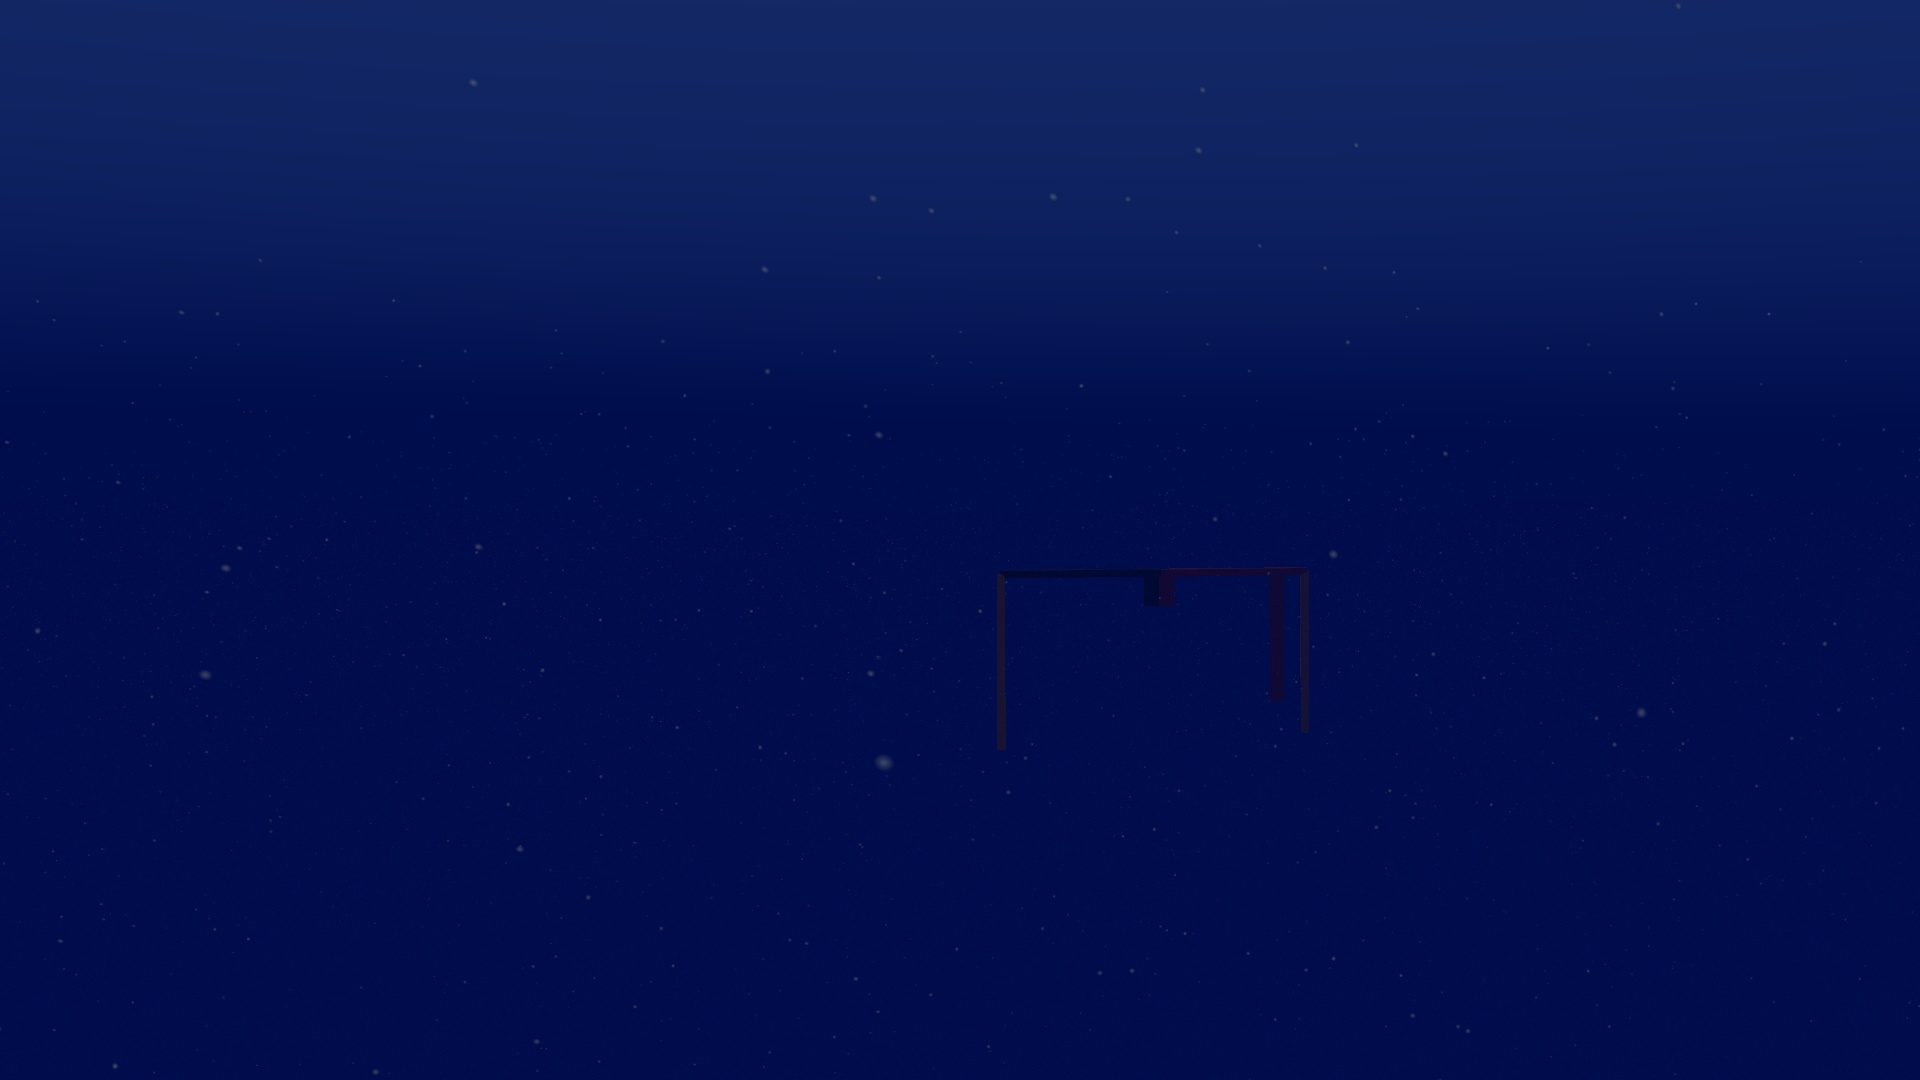Gate: (996, 564, 1320, 754)
